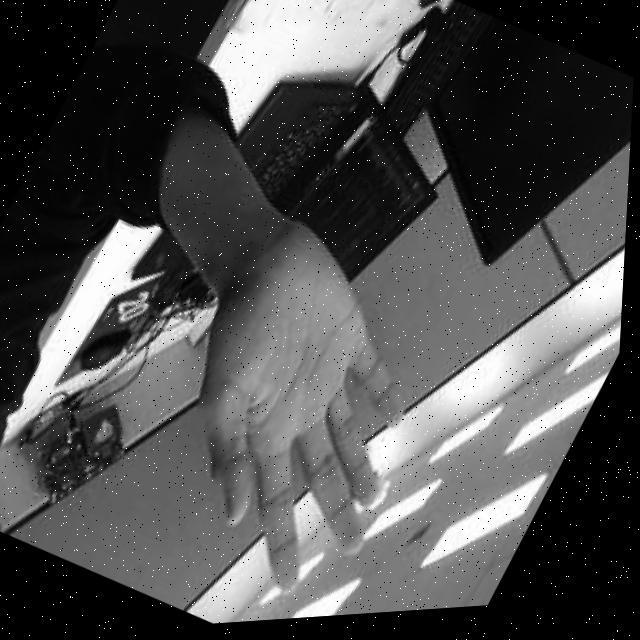no-gloves: (106, 195, 502, 630)
